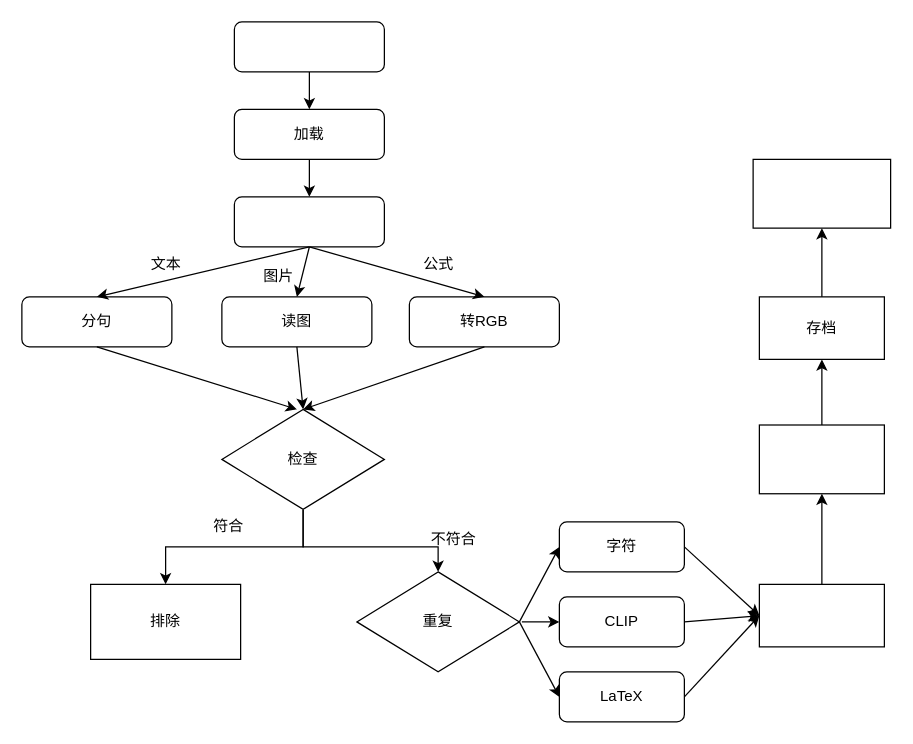
Image size: 913x744. Some labels were removed from this diagram. The centre of each missing label's shape, as x and y in pixels:
"保存" goes at point 821,615.
"加权" goes at point 821,459.
"开始" goes at point 308,46.
"结束" goes at point 821,193.
"预处理" goes at point 308,221.
